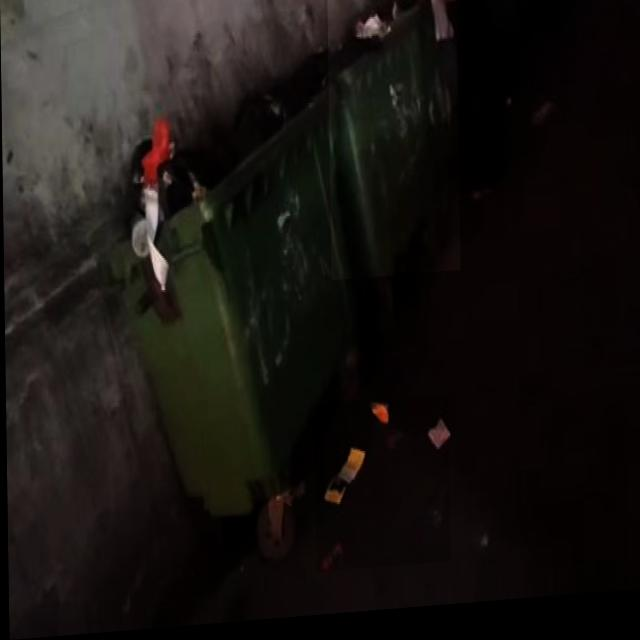garbage: (313, 401, 449, 577)
overflow: (103, 83, 363, 531), (327, 0, 460, 286)
